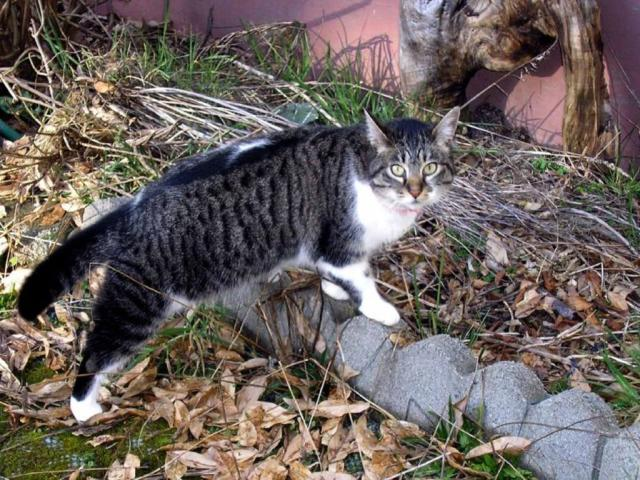Cat: (20, 104, 458, 424)
